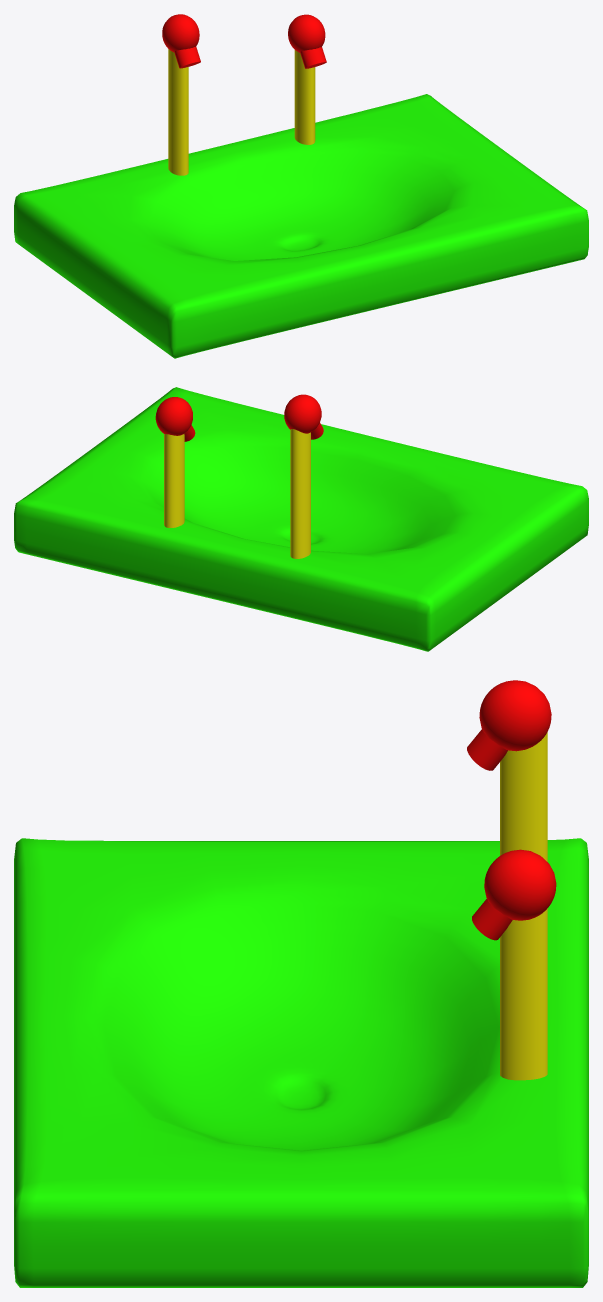
The model's file is umgebung_waschbecken_low.FBX.
The picture shows the model from 3 angles, top to bottom: view 1: azimuth 30°, elevation 25°; view 2: azimuth 150°, elevation 25°; view 3: azimuth 270°, elevation 25°; orthographic projection. The views are drawn at different scales.
Parts seen in each view (by area): view 1: o_waschbecken_low, o_stange_low, i_stange_low, o_schaedel_low, i_schaedel_low; view 2: o_waschbecken_low, o_stange_low, i_stange_low, i_schaedel_low, o_schaedel_low; view 3: o_waschbecken_low, i_stange_low, o_stange_low, i_schaedel_low, o_schaedel_low, o_unterkiefer_low, i_unterkiefer_low.
Boxes of the visible parts, x1,y1,x2,y2 form: o_waschbecken_low: (14,94,588,358); o_stange_low: (168,49,188,175); i_stange_low: (294,50,315,144); o_schaedel_low: (162,14,199,52); i_schaedel_low: (288,14,325,52); o_waschbecken_low: (14,387,588,651); o_stange_low: (290,429,310,558); i_stange_low: (164,434,184,527); i_schaedel_low: (155,397,192,435); o_schaedel_low: (284,394,321,433); o_waschbecken_low: (14,838,588,1287); i_stange_low: (500,908,547,1080); o_stange_low: (500,732,547,861); i_schaedel_low: (484,849,556,920); o_schaedel_low: (479,680,551,751); o_unterkiefer_low: (467,729,507,770); i_unterkiefer_low: (472,899,512,940).
Size of the model in its own units: 228 by 151 by 108.
